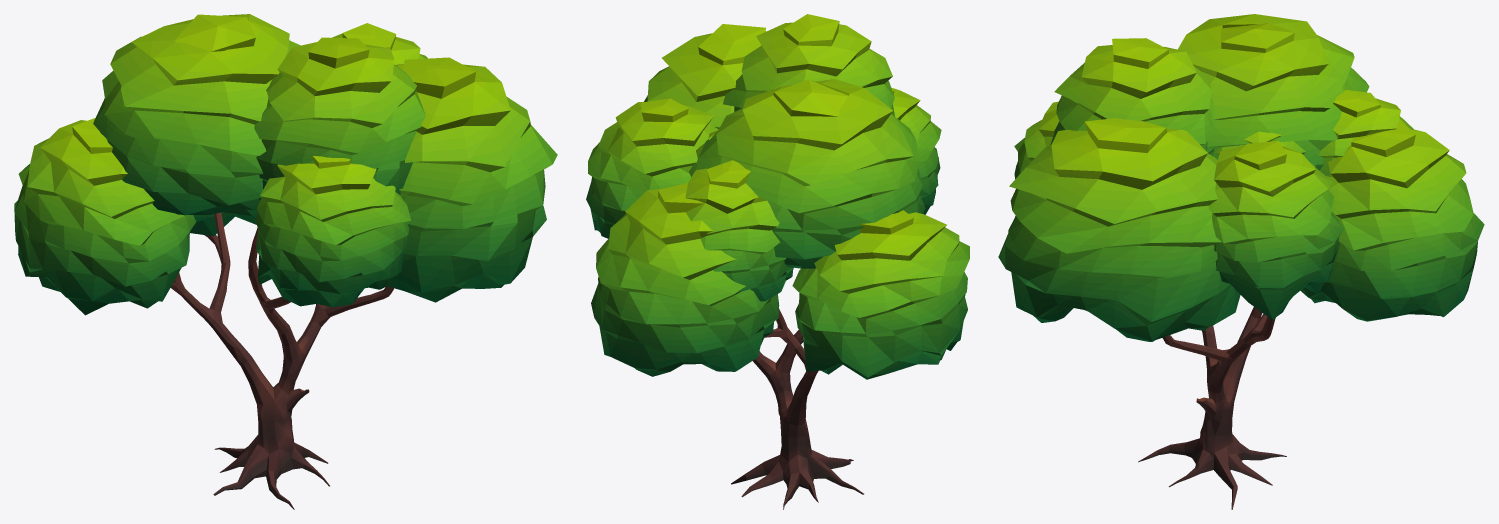
The model's file is tree_savannah03_lush_mod_01.fbx.
3 renders of one model, left to right at view 1: azimuth 30°, elevation 25°; view 2: azimuth 150°, elevation 25°; view 3: azimuth 270°, elevation 25°, orthographic. The views are drawn at different scales.
Parts seen in each view (by area): view 1: leaves03, tree03; view 2: leaves03, tree03; view 3: leaves03, tree03.
Part boxes in pixels (bbox=[...]): leaves03: bbox=[14, 14, 557, 315]; tree03: bbox=[170, 212, 393, 509]; leaves03: bbox=[586, 14, 969, 379]; tree03: bbox=[731, 309, 863, 509]; leaves03: bbox=[998, 14, 1484, 341]; tree03: bbox=[1138, 307, 1286, 509].
Size of the model in its own units: 7.01 by 7.41 by 7.5.
